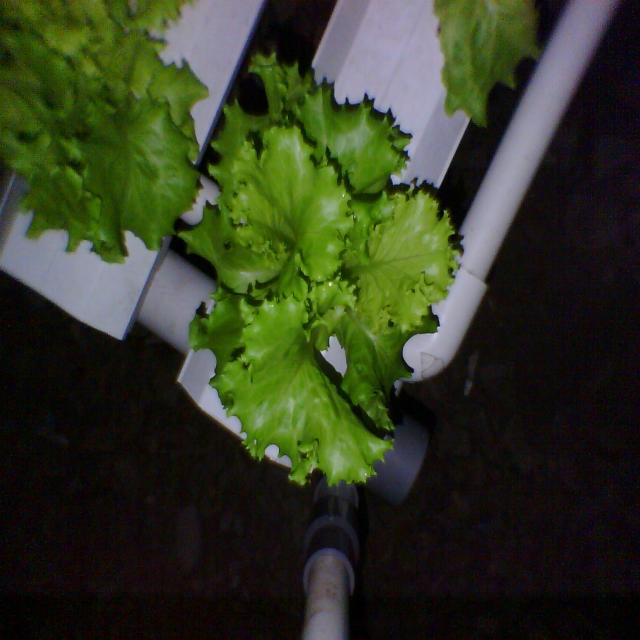FN: (175, 37, 468, 494), (0, 0, 215, 274)
